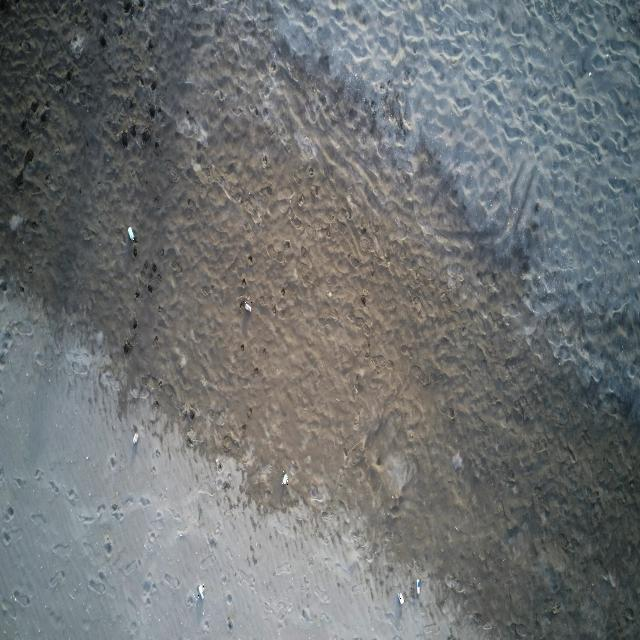tin-and-aluminum-cans: (198, 584, 205, 601), (397, 591, 405, 605), (128, 226, 134, 242), (244, 302, 252, 313), (282, 471, 288, 485), (133, 432, 139, 445), (416, 577, 420, 595)
